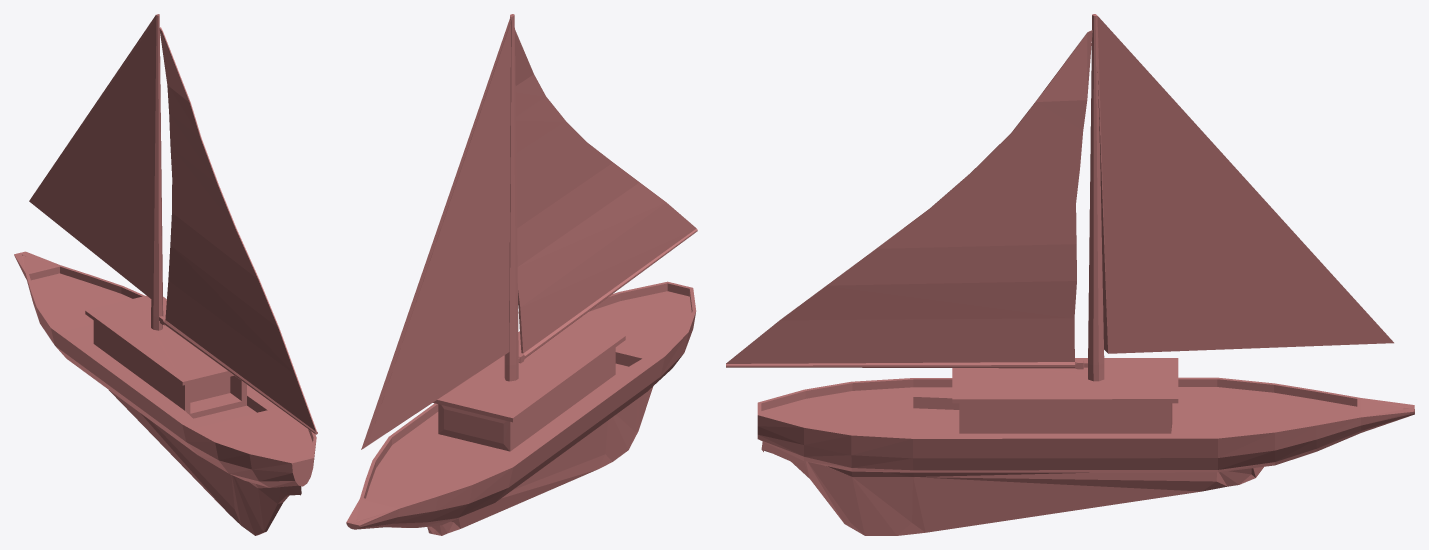
Rendered from sailboat.dae.
3 renders of one model, left to right at view 1: azimuth 30°, elevation 25°; view 2: azimuth 150°, elevation 25°; view 3: azimuth 270°, elevation 25°, orthographic. The views are drawn at different scales.
Parts seen in each view (by area): view 1: i1_Material__1; view 2: i1_Material__1; view 3: i1_Material__1.
Part boxes in pixels (x1,y1,x2,y2): i1_Material__1: (14,14,317,535); i1_Material__1: (346,14,697,535); i1_Material__1: (726,14,1414,535).
Size of the model in its own units: 1.95 by 9.31 by 7.76.
